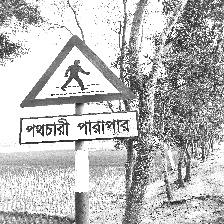Pedestrian-crossing: (19, 34, 138, 146)
